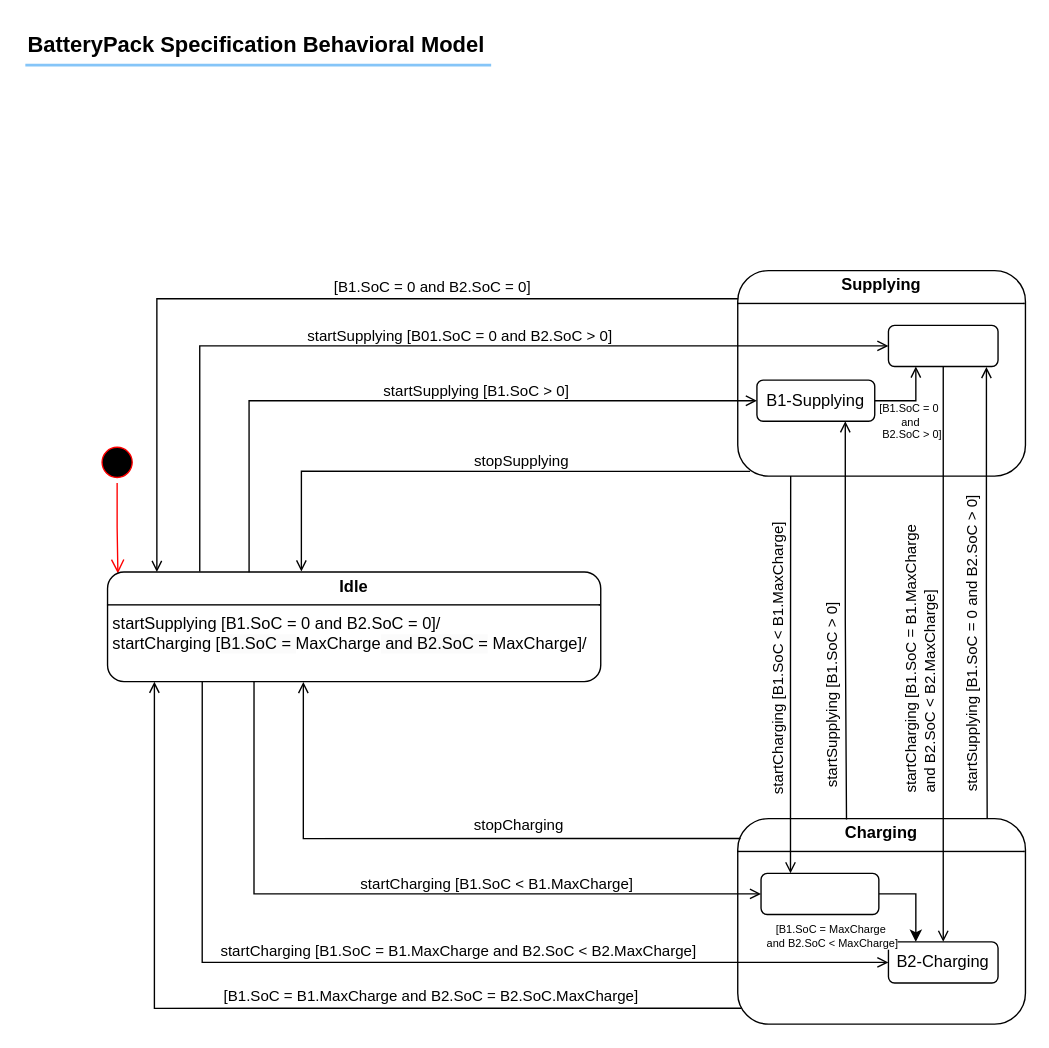
The diagram is 1049 pixels wide and 1048 high, and some of its shapes have lost their labels. The centre of each missing label's shape, as x and y in pixels:
B1-Charging: pixel 819 893
B2-Supplying: pixel 942 345
